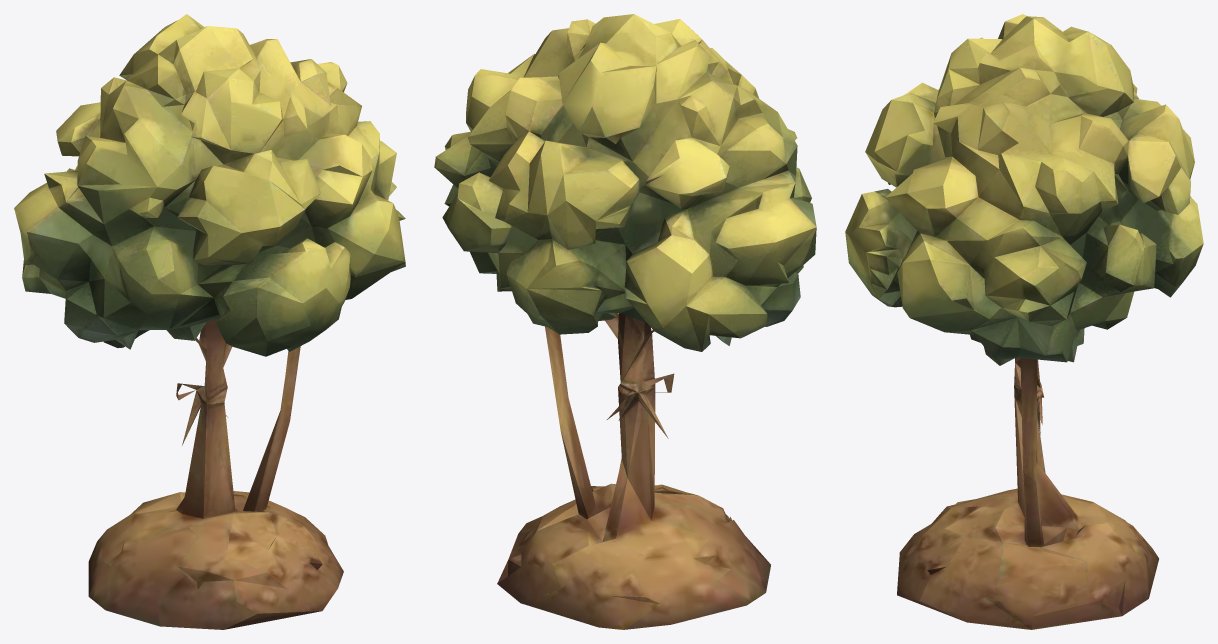
The model's file is sapling.glb.
The picture shows the model from 3 angles, left to right: view 1: azimuth 30°, elevation 25°; view 2: azimuth 150°, elevation 25°; view 3: azimuth 270°, elevation 25°; orthographic projection. The views are drawn at different scales.
Bounding box in the file's own units: 1.32 × 1.9 × 1.12.
Materials: 1 (1 with a texture image).
